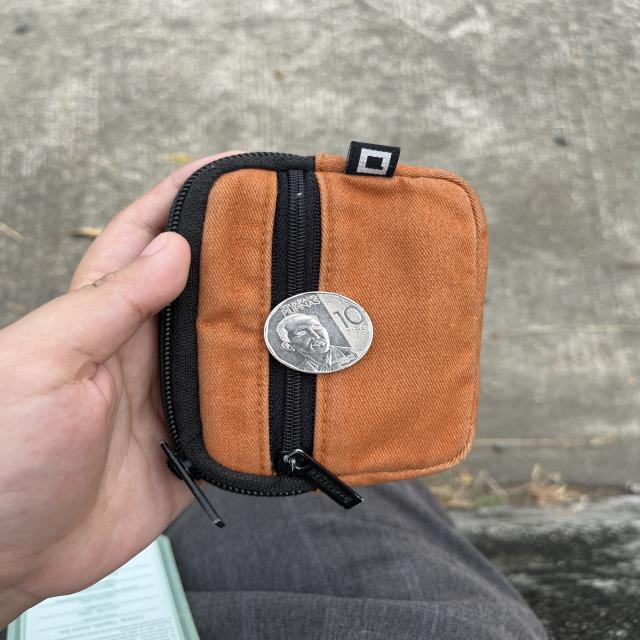10_New_Front: (324, 299, 370, 342)
